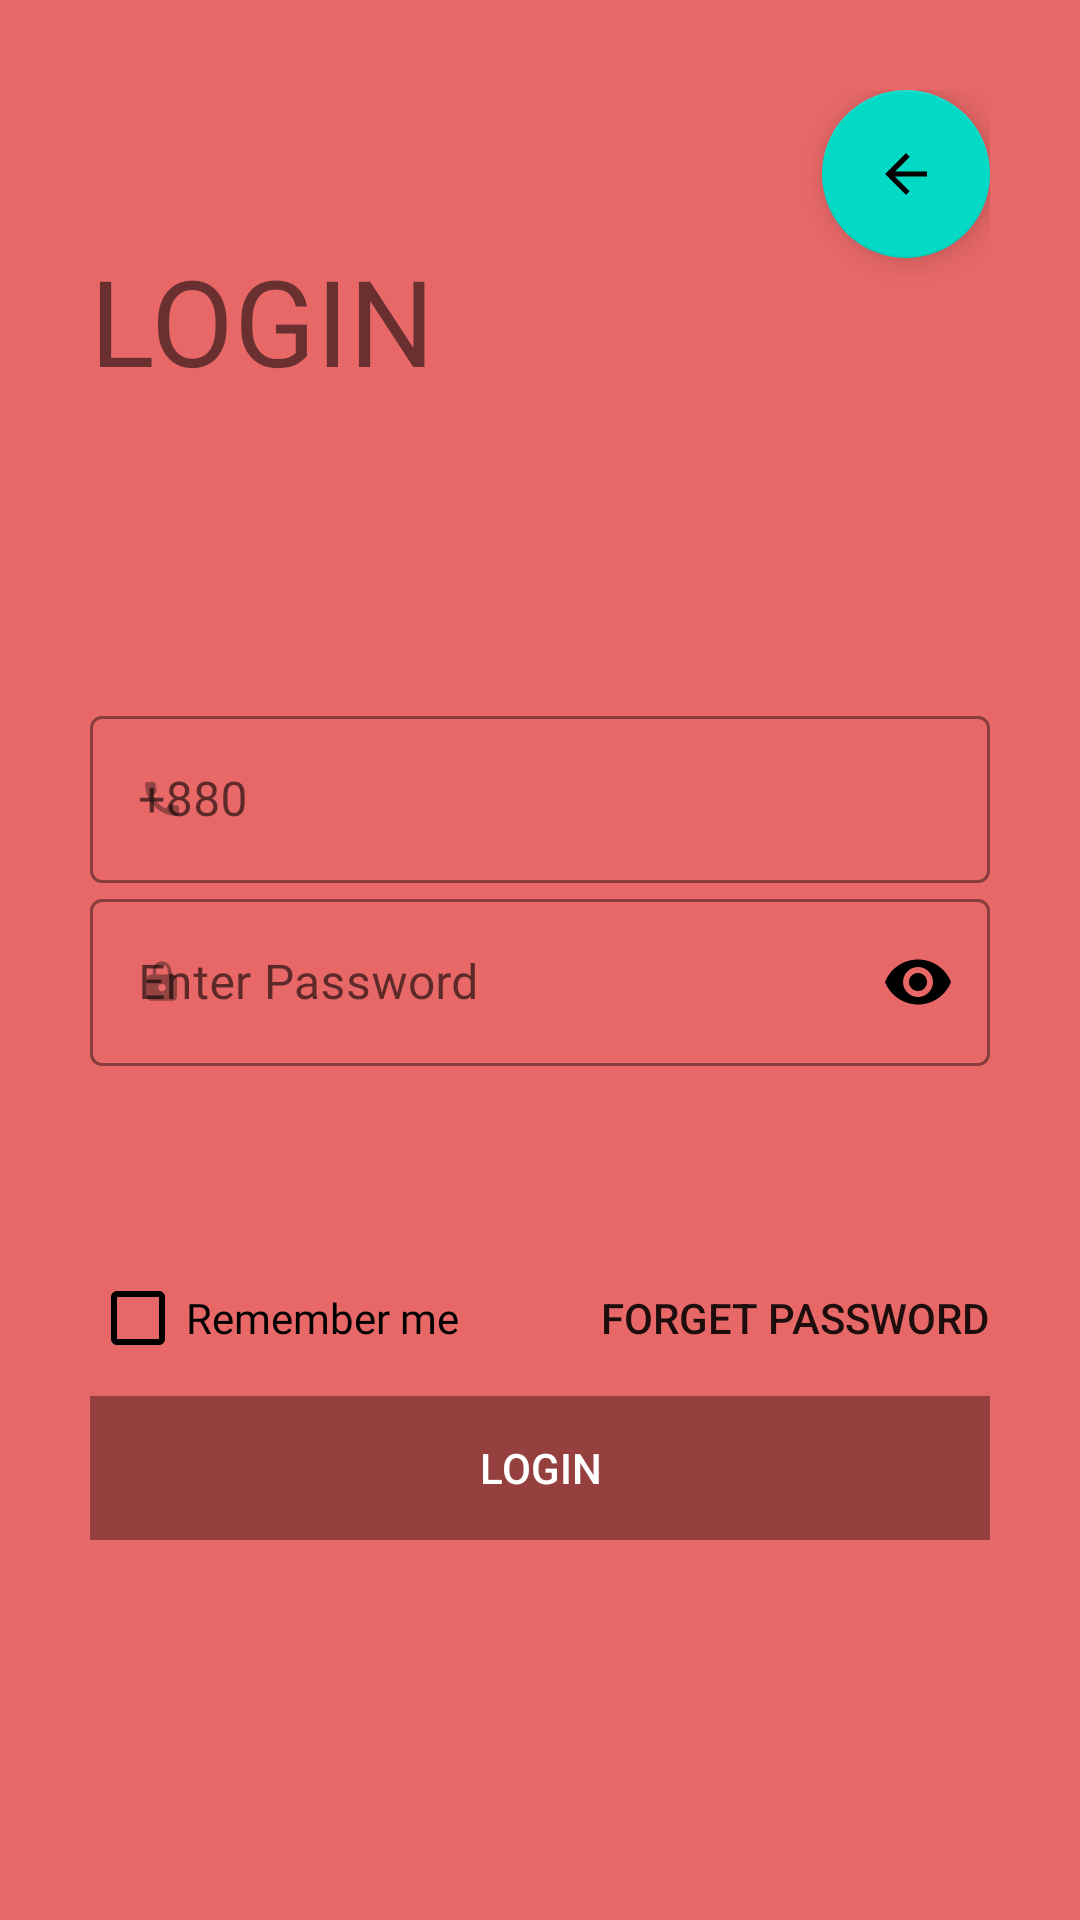

Icons on this 1080×1920 Android screen, each with its box as (x1, y1, x2, y2):
back: (822, 90, 990, 258)
